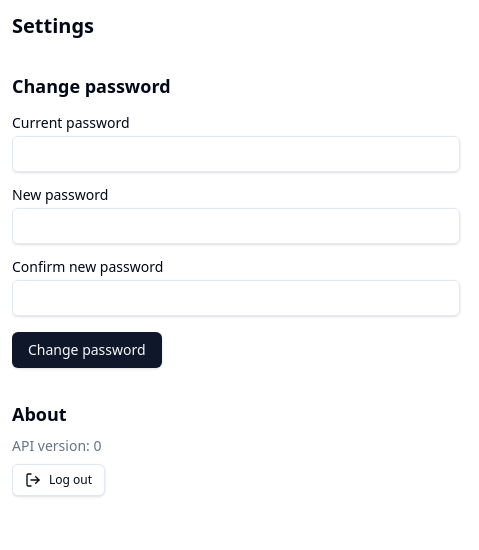
Test case: SettingsPage › clears the form and confirms on success
Type "oldsecret" into the password field labelled "Current password" at (236, 154), box x1=12 y1=136 x2=460 y2=172
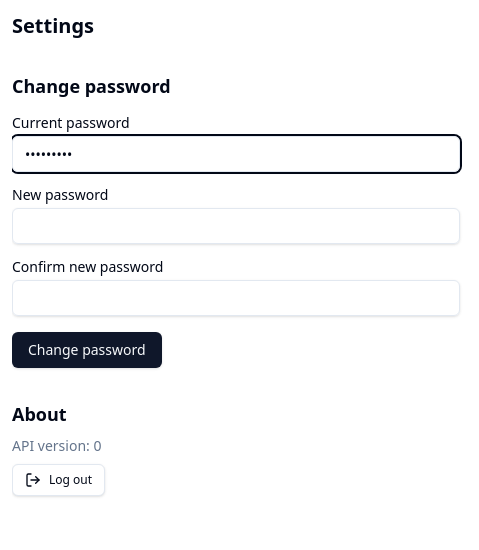
Type "newsecret1" into the password field labelled "New password" at (236, 226), box x1=12 y1=208 x2=460 y2=244
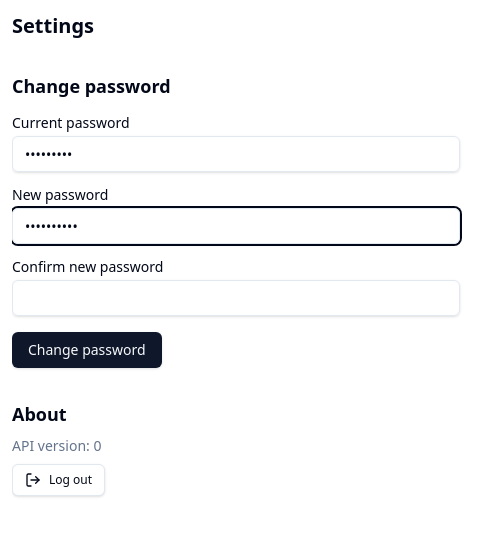
Type "newsecret1" into the password field labelled "Confirm new password" at (236, 298), box x1=12 y1=280 x2=460 y2=316
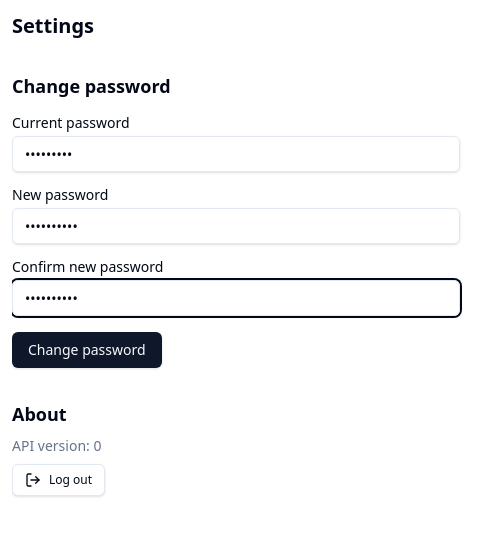
Click the button "Change password" at (87, 350), box x1=12 y1=332 x2=162 y2=368
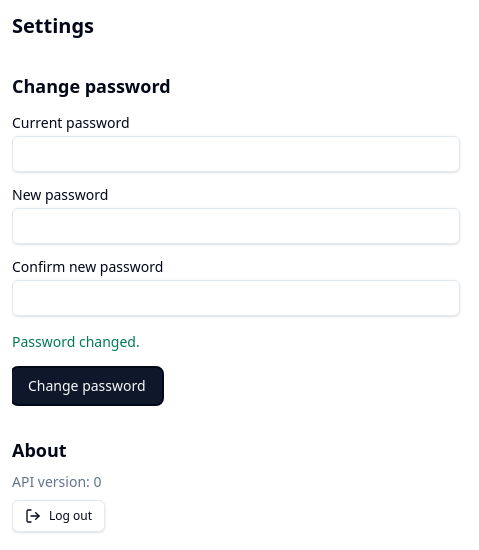
Check: the text "Password changed." is shown, box x1=12 y1=332 x2=140 y2=351
Check: the password field labelled "Current password" is empty, box x1=12 y1=136 x2=460 y2=172
